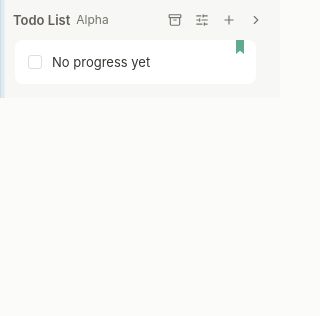
Test: TodoRail › continues subtask entry after Enter and lets a draft subtask be edited
Click the button named "新增代办".
click(229, 20)  # box top-left (217, 8), bottom-right (242, 32)
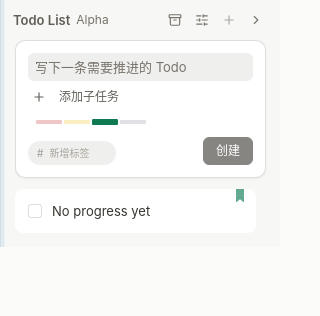
Click the button "添加子任务".
click(76, 96)  # box top-left (32, 89), bottom-right (119, 104)
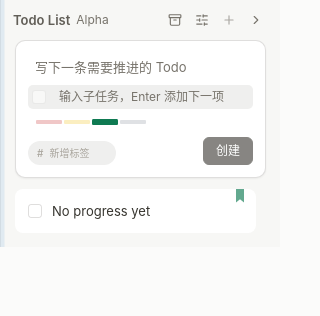
Type "准备资料" into the 1st field.
click(150, 97); type("准备资料")  # box top-left (52, 85), bottom-right (249, 109)
Then press Enter
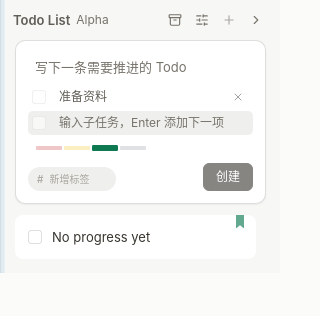
Expected: the 1st field is empty
Type "发送资料" into the 1st field.
click(150, 123); type("发送资料")  # box top-left (52, 111), bottom-right (249, 135)
Then press Enter
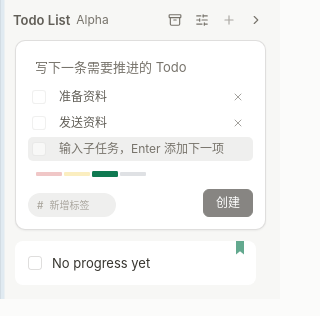
Expected: the text "发送资料" is shown, top-left (59, 115), bottom-right (107, 130)
Click the text "准备资料".
click(83, 96)  # box top-left (59, 89), bottom-right (107, 104)
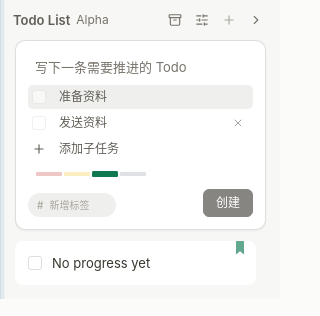
Clear the field labelled "准备资料" at (83, 96), box top-left (59, 89), bottom-right (107, 104)
Type "核对资料" into the 1st field.
click(150, 97); type("核对资料")  # box top-left (52, 85), bottom-right (249, 109)
Then press Enter
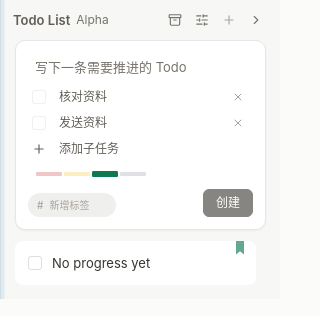
Expected: the field "准备资料" is not shown
Expected: the text "核对资料" is shown, top-left (59, 89), bottom-right (107, 104)
